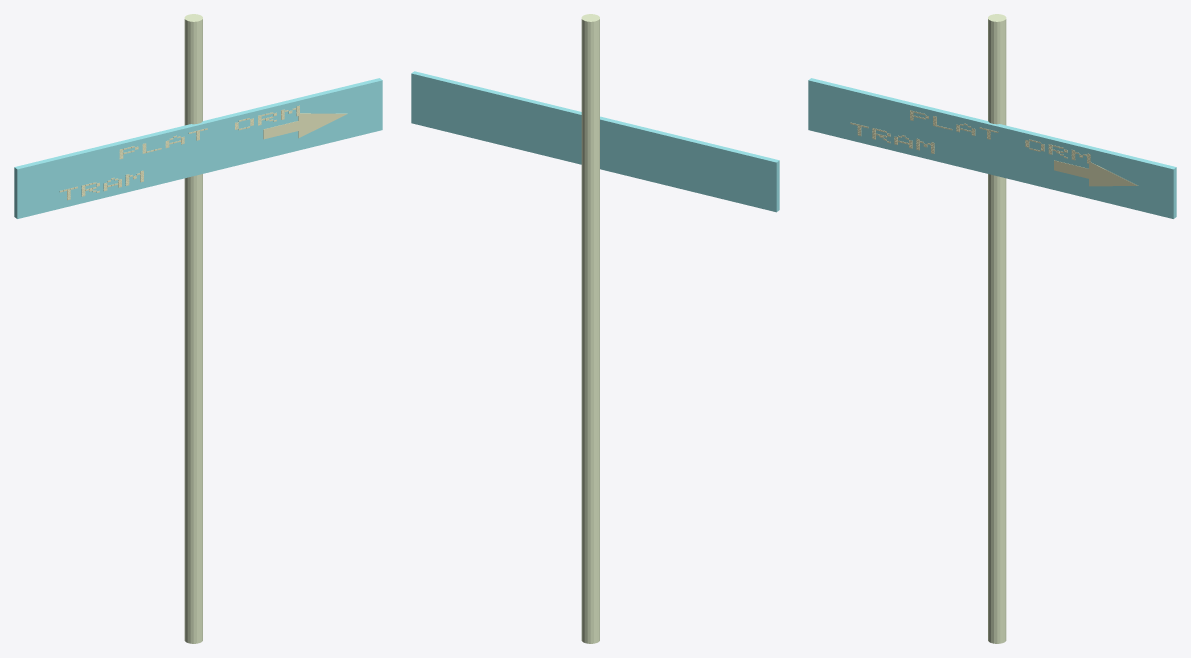
The model's file is sign_tram_platform_arrow_right.glb.
3 renders of one model, left to right at view 1: azimuth 30°, elevation 25°; view 2: azimuth 150°, elevation 25°; view 3: azimuth 330°, elevation 25°, orthographic.
Parts seen in each view (by area): view 1: plate_base_00, pole, layer_1_169; view 2: plate_base_00, pole; view 3: plate_base_00, pole, layer_1_169.
Part boxes in pixels (bbox=[...]): plate_base_00: bbox=[14, 78, 382, 218]; pole: bbox=[184, 14, 202, 643]; layer_1_169: bbox=[298, 113, 347, 138]; plate_base_00: bbox=[411, 71, 779, 212]; pole: bbox=[581, 14, 599, 643]; plate_base_00: bbox=[808, 78, 1176, 218]; pole: bbox=[988, 14, 1006, 643]; layer_1_169: bbox=[1089, 162, 1137, 186].
Bounding box in the file's own units: 1.35 × 2.2 × 0.071.
